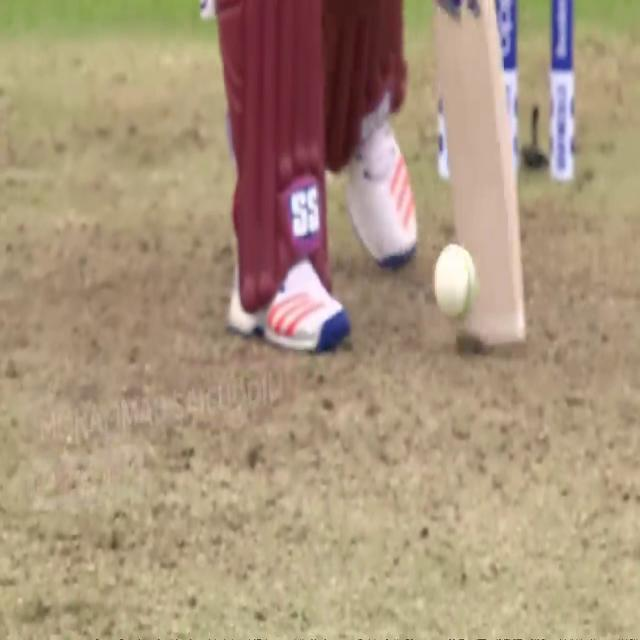ball: (425, 235, 482, 338)
